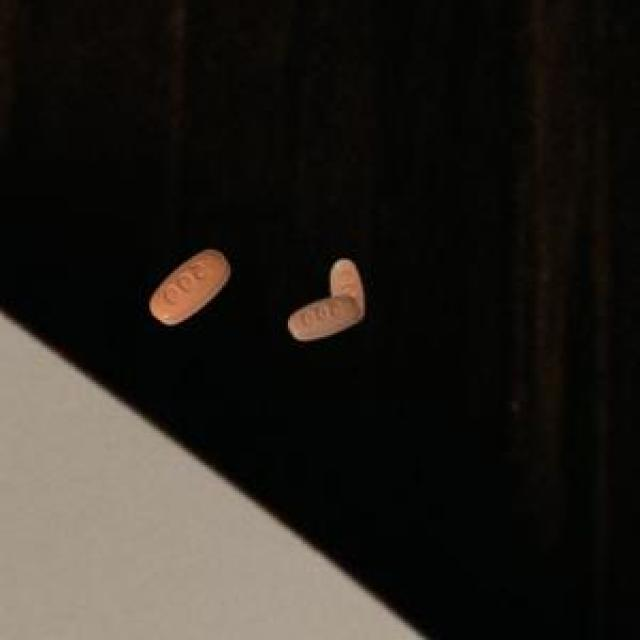Biogesic: (279, 250, 379, 352), (138, 236, 237, 338)
